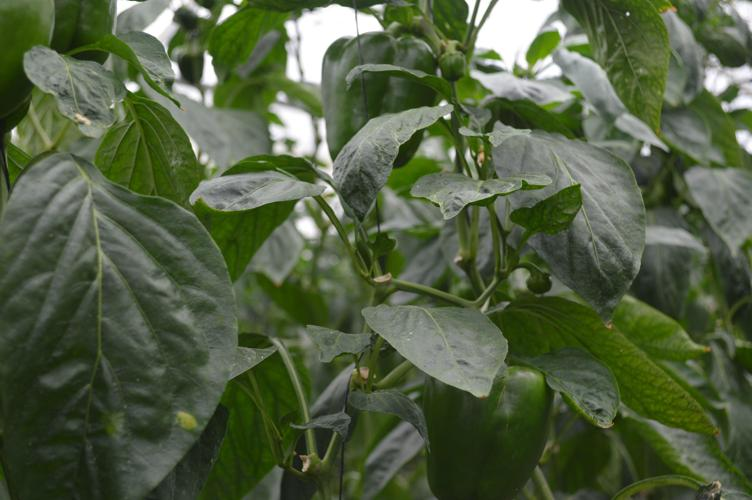BellPepper: (418, 362, 561, 500), (321, 24, 432, 177)
